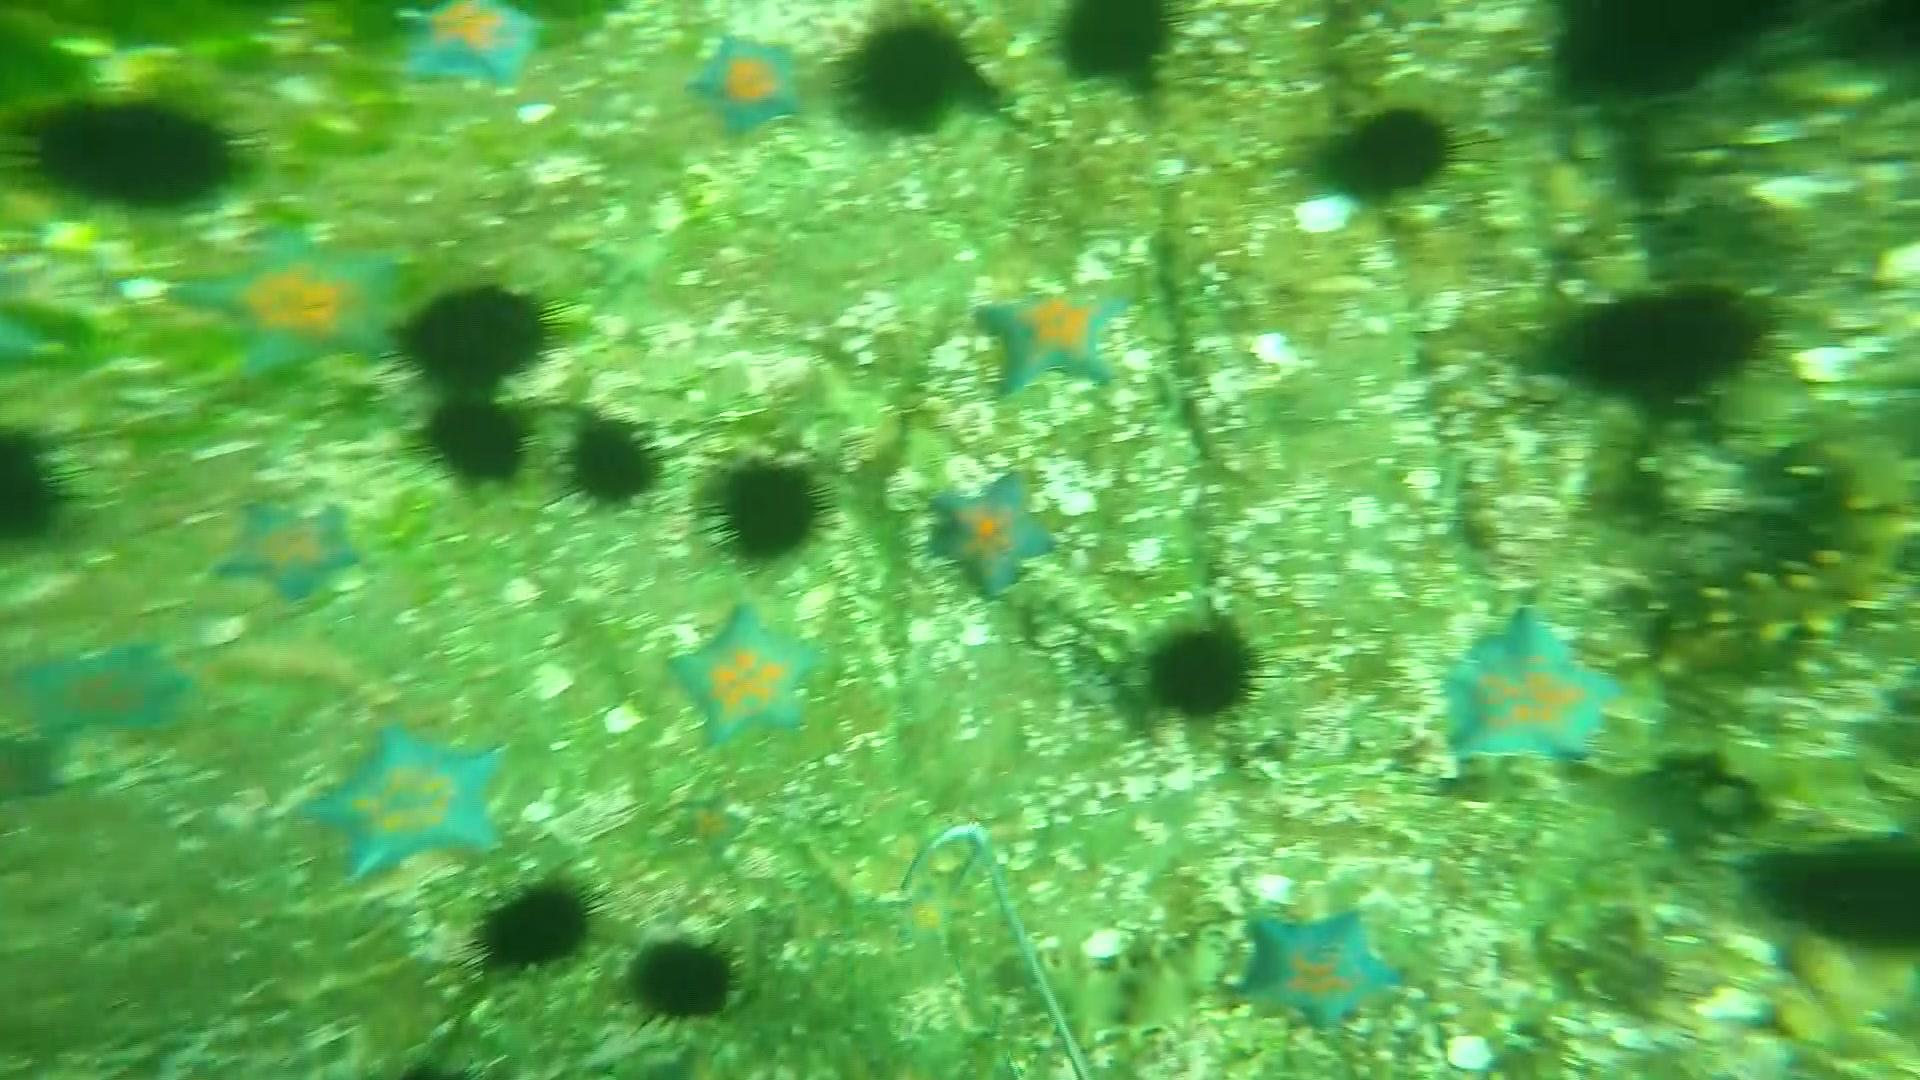echinus: (1, 90, 255, 223), (1543, 273, 1776, 407), (1552, 1, 1805, 108), (384, 280, 568, 400), (824, 15, 993, 141), (1127, 616, 1296, 735), (692, 447, 847, 574), (451, 874, 615, 993), (1335, 102, 1505, 200), (615, 931, 748, 1046), (411, 392, 541, 496), (553, 407, 674, 516), (1, 413, 95, 550), (1054, 1, 1203, 82)
holothurian: (1643, 434, 1920, 659), (1007, 924, 1225, 1054)
starfish: (167, 235, 411, 384), (291, 719, 513, 881), (1433, 608, 1626, 766), (669, 597, 827, 752), (1233, 905, 1407, 1040), (964, 282, 1137, 404), (924, 465, 1064, 603), (208, 495, 367, 611), (20, 640, 187, 746), (396, 3, 549, 94), (688, 34, 811, 145)
